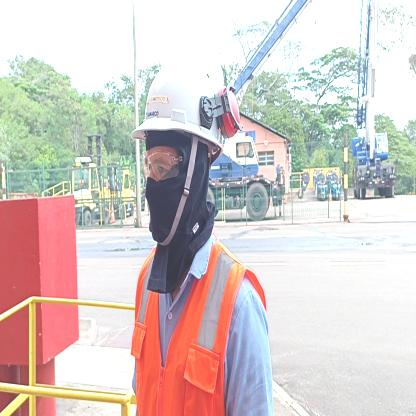Balaclava: (148, 133, 212, 246)
Capacete: (140, 50, 221, 141)
colete: (135, 245, 238, 416)
